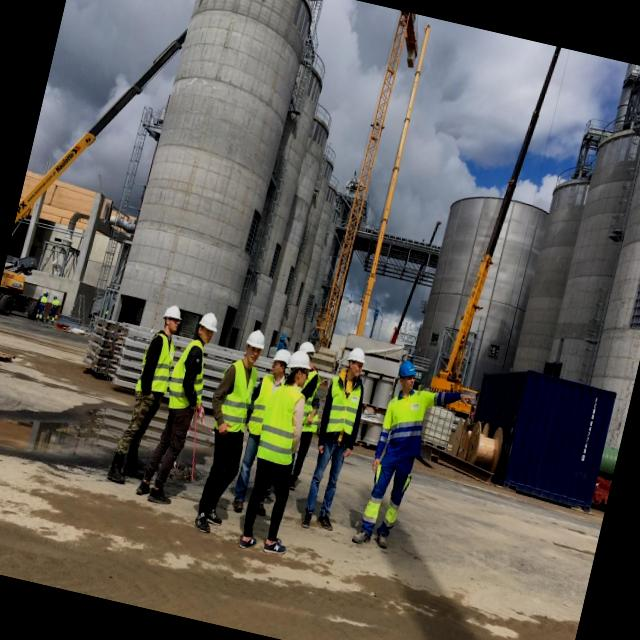helmet: (282, 348, 320, 377), (343, 344, 371, 371), (242, 326, 268, 354), (394, 357, 423, 382), (196, 307, 222, 334), (158, 301, 184, 327), (271, 346, 291, 367)
vest: (256, 380, 312, 470), (376, 389, 439, 466), (212, 350, 264, 440), (316, 368, 370, 449), (164, 333, 214, 416), (133, 326, 178, 402), (246, 369, 278, 441)
